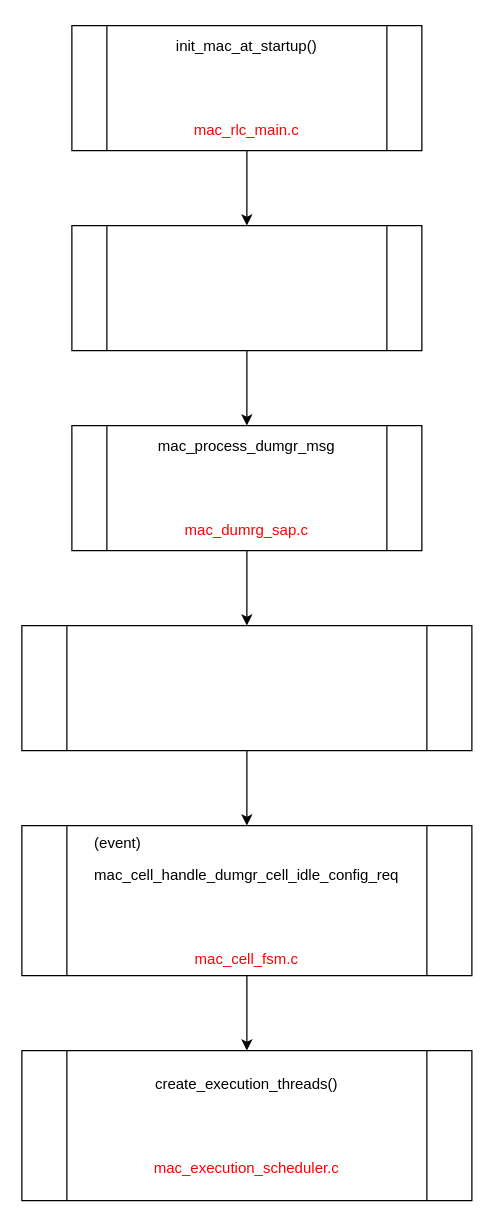
Some shapes in this 494 by 1223 pixel diagram are drawn without their labels. The centre of each missing label's shape, as x and y in pixels:
"mac_event_handler_func_ptr_table[cell_state][event] mac_dumrg_sap.c" goes at (x=246, y=687).
"mac_process_incoming_message mac_main.c" goes at (x=246, y=287).
